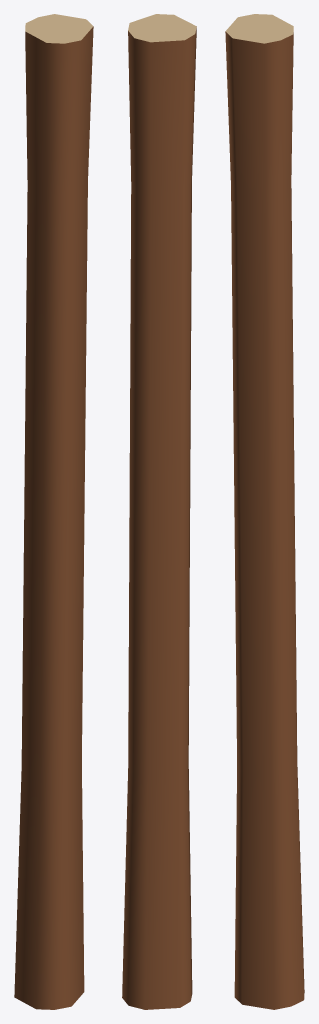
The model's file is long_log.fbx.
3 renders of one model, left to right at view 1: azimuth 90°, elevation 25°; view 2: azimuth 150°, elevation 25°; view 3: azimuth 270°, elevation 25°, orthographic.
Parts seen in each view (by area): view 1: long_log_01; view 2: long_log_01; view 3: long_log_01.
Boxes of the visible parts, x1,y1,x2,y2 form: long_log_01: [14, 14, 93, 1009]; long_log_01: [122, 14, 196, 1009]; long_log_01: [225, 14, 304, 1009].
Size of the model in its own units: 23.02 by 341 by 25.33.
